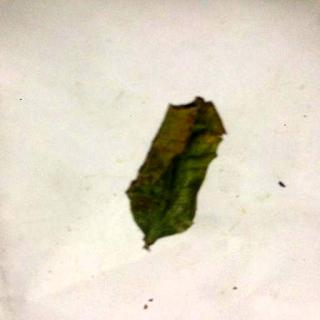Red Leaf Spot: (126, 97, 229, 251)
